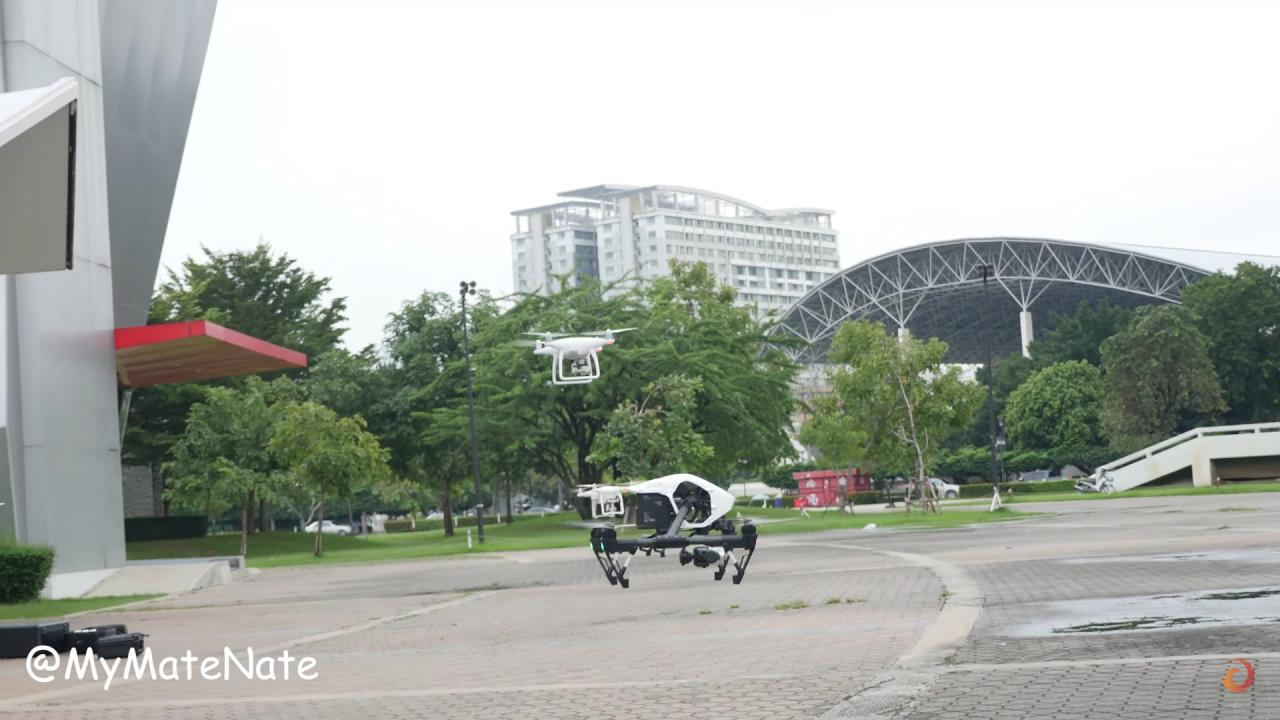Drone: (584, 470, 765, 596), (504, 320, 648, 391), (569, 472, 641, 520)
